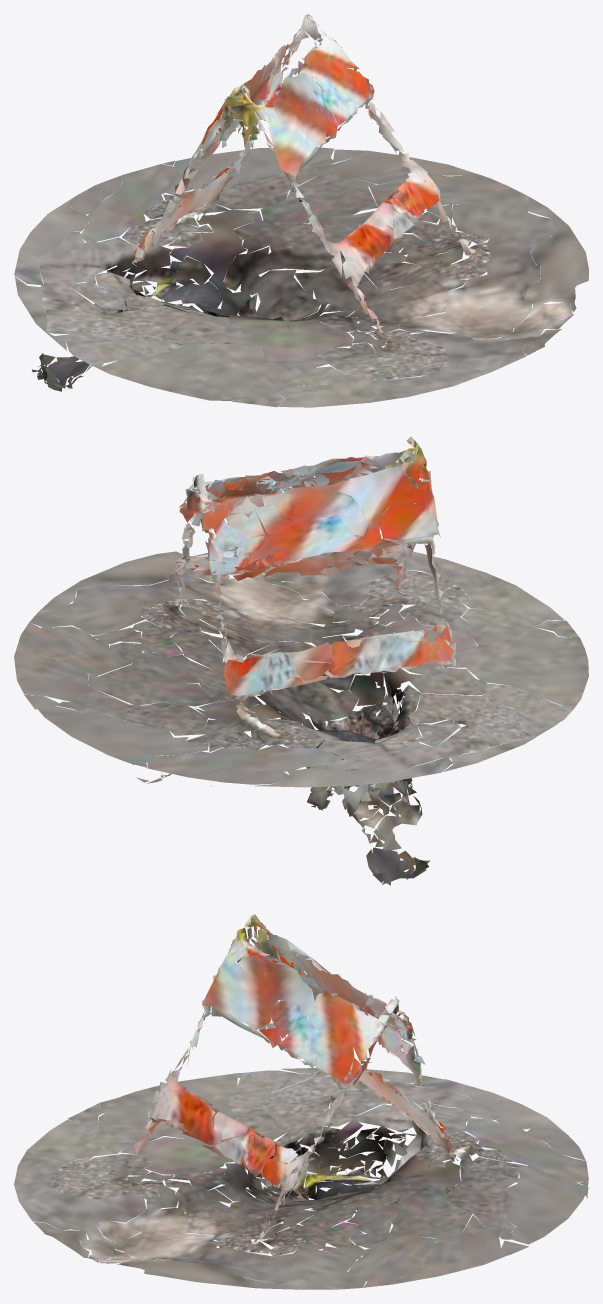
File: 263_detroit_pothole.glb
3 renders of one model, top to bottom at view 1: azimuth 30°, elevation 25°; view 2: azimuth 150°, elevation 25°; view 3: azimuth 270°, elevation 25°, orthographic. The views are drawn at different scales.
Visible parts, largest first — view 1: 263_detroit_pothole.001; view 2: 263_detroit_pothole.001; view 3: 263_detroit_pothole.001.
Part boxes in pixels (box(x1,y1,x2,y2)): 263_detroit_pothole.001: box(14, 14, 588, 407); 263_detroit_pothole.001: box(14, 436, 588, 885); 263_detroit_pothole.001: box(14, 914, 588, 1289).
Bounding box in the file's own units: 2.18 × 1.48 × 2.26.
1 material, 1 textured.
